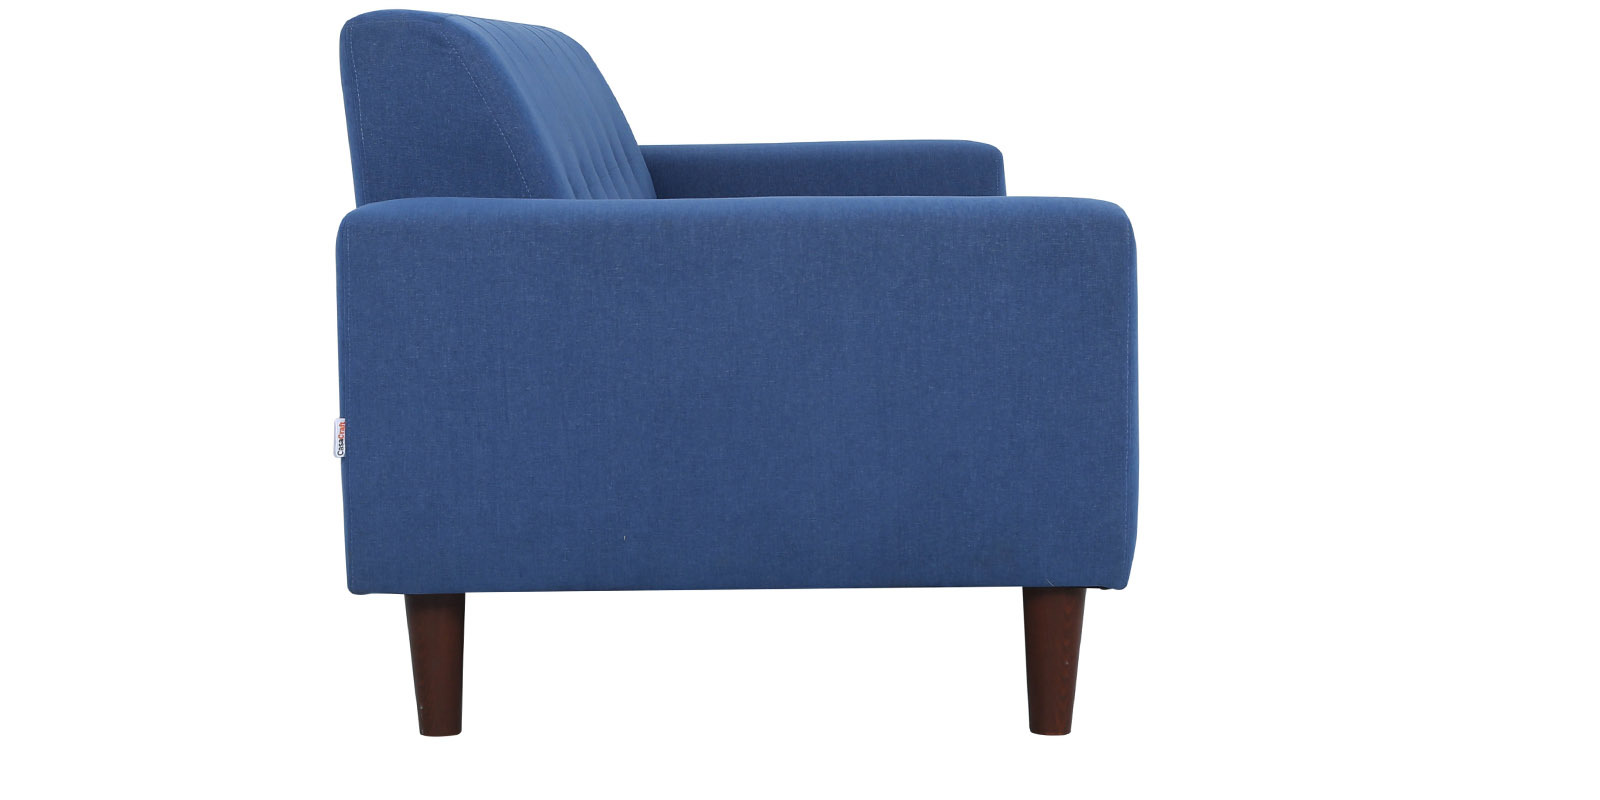Cordoba Three Seater Sofa in Denim Blue Colour by CasaCraft: (316, 2, 1146, 776)
